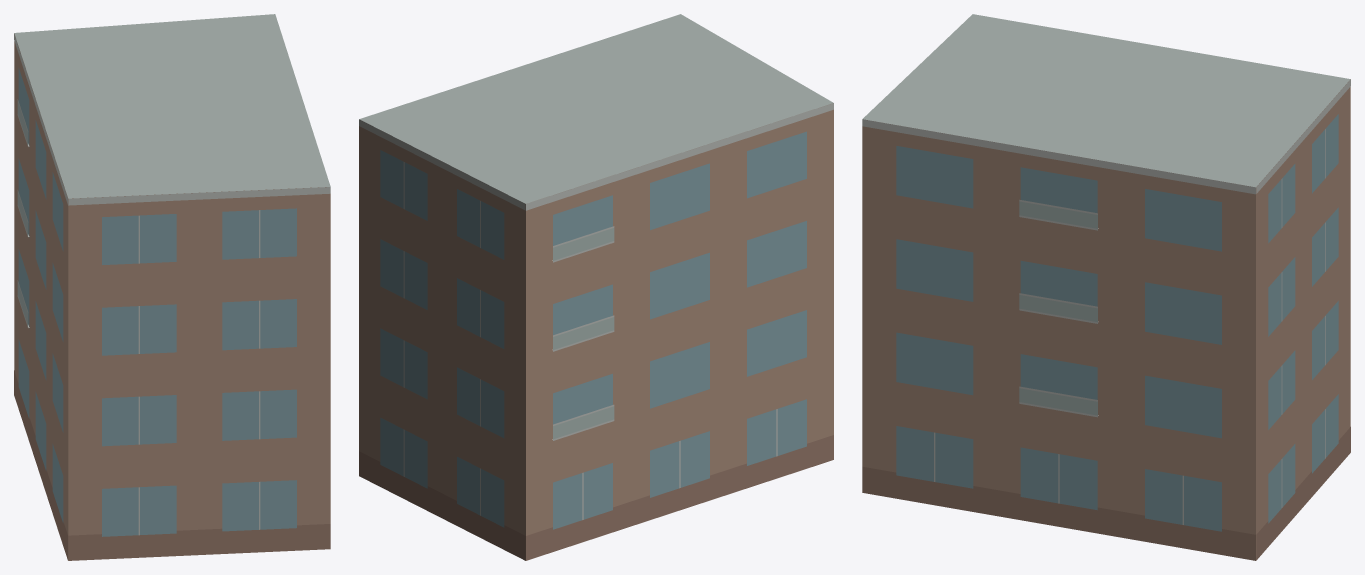
File: survey-upis-32880063.glb
3 renders of one model, left to right at view 1: azimuth 30°, elevation 25°; view 2: azimuth 150°, elevation 25°; view 3: azimuth 270°, elevation 25°, orthographic. The views are drawn at different scales.
Visible parts, largest first — view 1: survey-upis-32880063.tmp; view 2: survey-upis-32880063.tmp; view 3: survey-upis-32880063.tmp.
Part boxes in pixels (x1,y1,x2,y2): survey-upis-32880063.tmp: [14, 14, 330, 560]; survey-upis-32880063.tmp: [359, 14, 833, 560]; survey-upis-32880063.tmp: [862, 14, 1350, 560].
Size of the model in its own units: 12.75 by 12.8 by 15.18.
